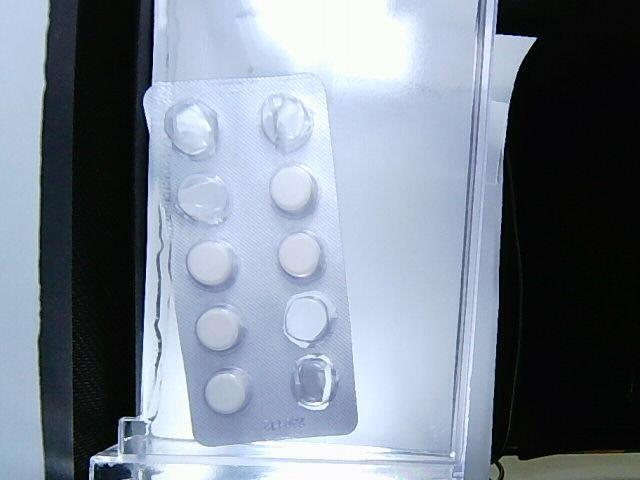Light Front: (138, 69, 361, 449)
No Pill Front: (164, 101, 219, 158), (260, 94, 313, 152), (284, 291, 337, 348), (178, 174, 230, 225), (291, 354, 338, 410)
Pill Front: (186, 241, 237, 291), (270, 165, 317, 216), (195, 305, 245, 351), (278, 231, 324, 279), (205, 368, 250, 415)
